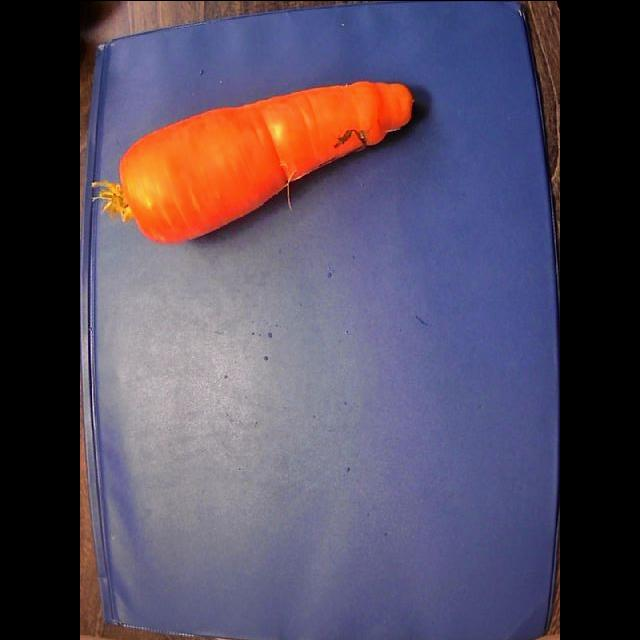zanahoria: (92, 81, 413, 242)
